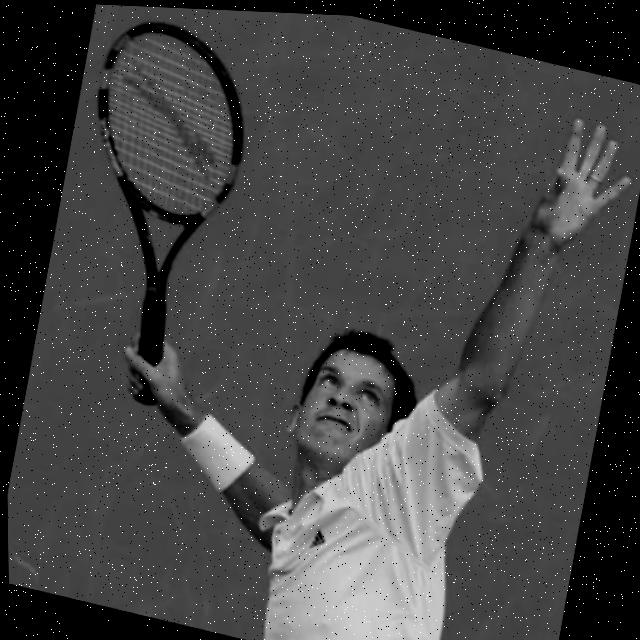face: (273, 324, 414, 500)
